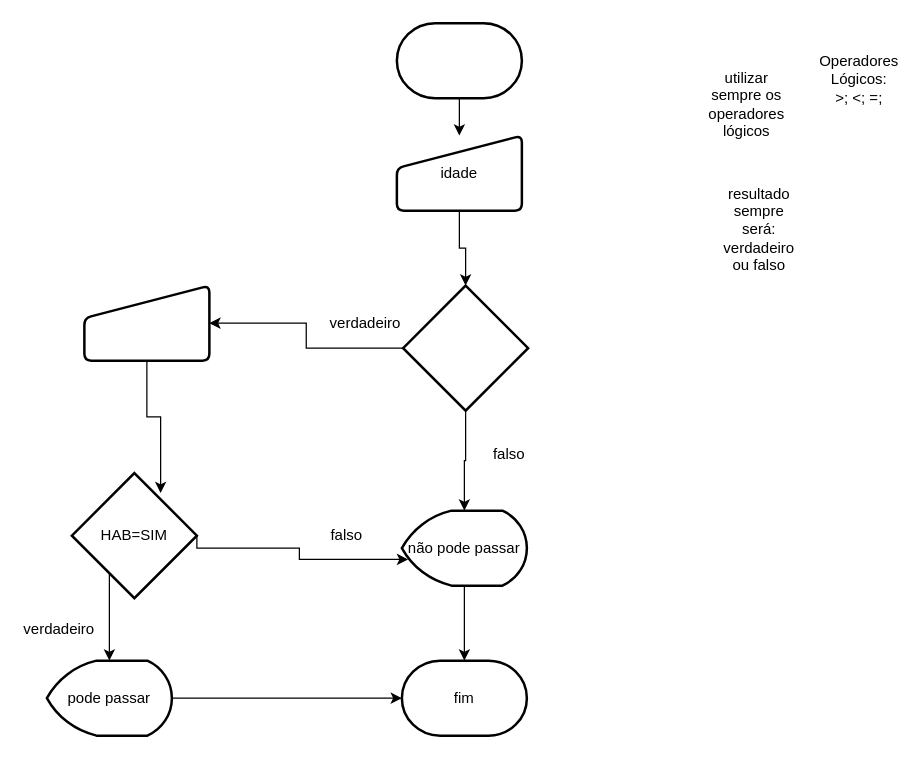
Image size: 920x758. Some labels were removed from this diagram. Here are the shapes that lost their labels. From the top down, the centre of each, then its label:
At (458,60): "Inicio".
At (146,322): "HABILITAÇÃO".
At (465,347): "idade>=18".
